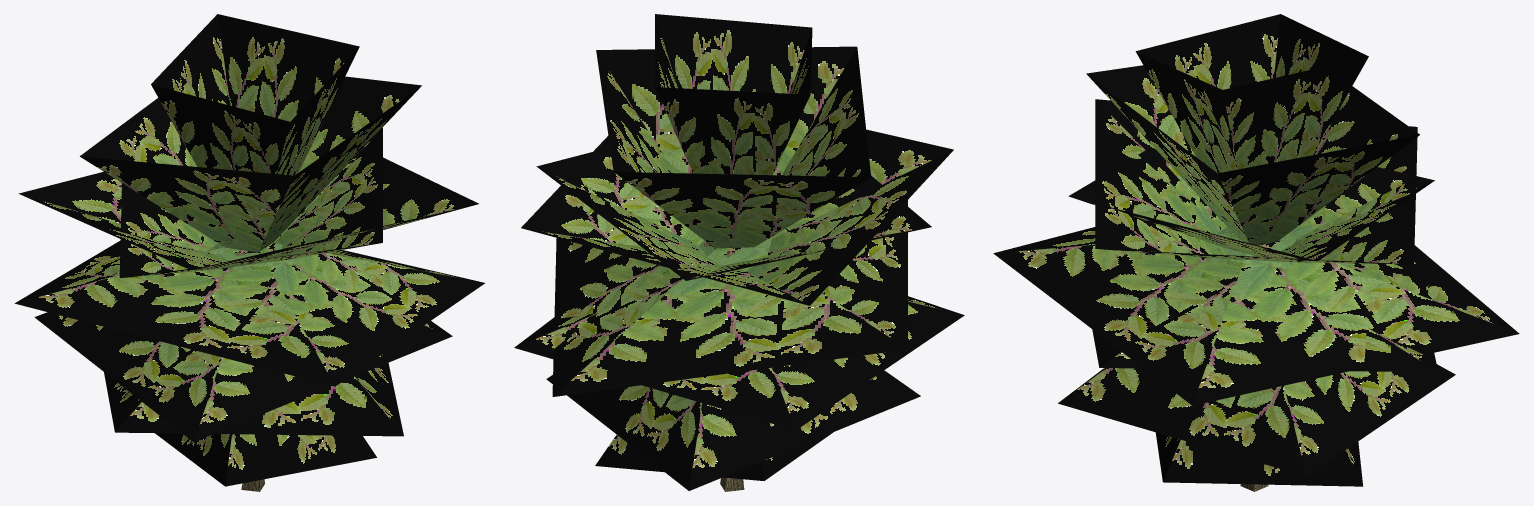
The model's file is bush1.glb.
3 views of the same model, side by side, from view 1: azimuth 30°, elevation 25°; view 2: azimuth 150°, elevation 25°; view 3: azimuth 270°, elevation 25° (orthographic). The views are drawn at different scales.
Parts seen in each view (by area): view 1: bush_1; view 2: bush_1; view 3: bush_1.
Part boxes in pixels (x1,y1,x2,y2): bush_1: [14, 14, 484, 491]; bush_1: [514, 14, 964, 491]; bush_1: [993, 14, 1519, 491].
Bounding box in the file's own units: 2.58 × 2.6 × 2.8.
Materials: 2 (2 with a texture image).
